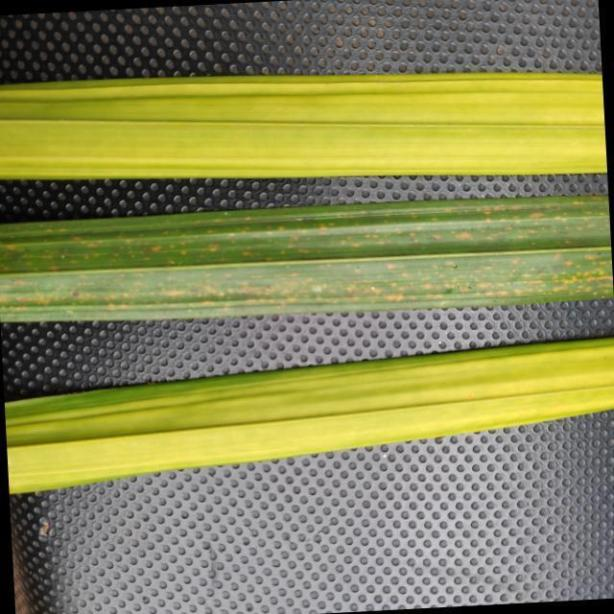nitrogen: (3, 329, 614, 495), (5, 197, 614, 326), (0, 77, 614, 182)
